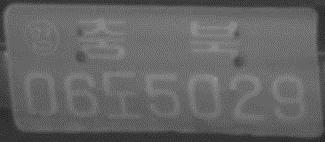0: (186, 72, 222, 122), (23, 70, 57, 120)
2: (228, 71, 269, 123)
5: (144, 72, 181, 119)
6: (64, 72, 97, 118)
9: (270, 73, 306, 125)
도: (102, 69, 141, 122)
영: (23, 18, 60, 57)
충북_D: (76, 16, 240, 60)
